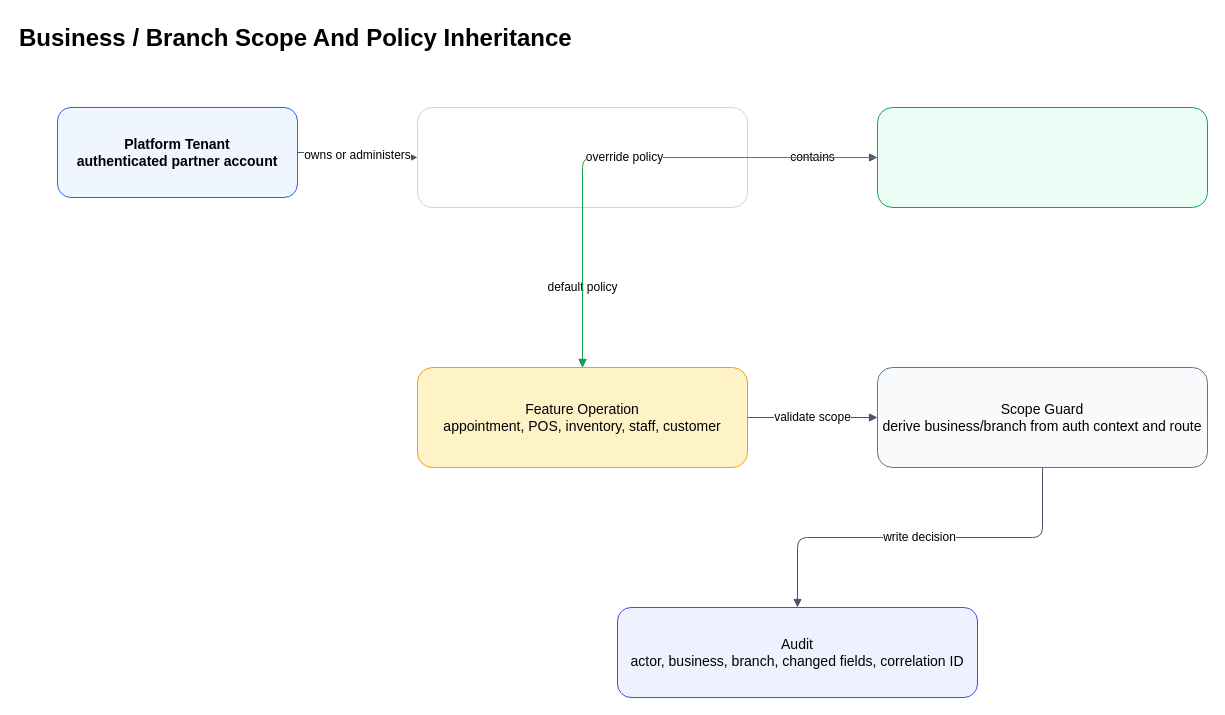
The diagram is 1225 pixels wide and 715 high, and some of its shapes have lost their labels. Each missing label, with the box of its shape:
Branch address, hours, holidays, branch policy overrides: (876, 106, 1208, 208)
Salon Business legal profile, currency, timezone, tax defaults: (416, 106, 748, 208)
